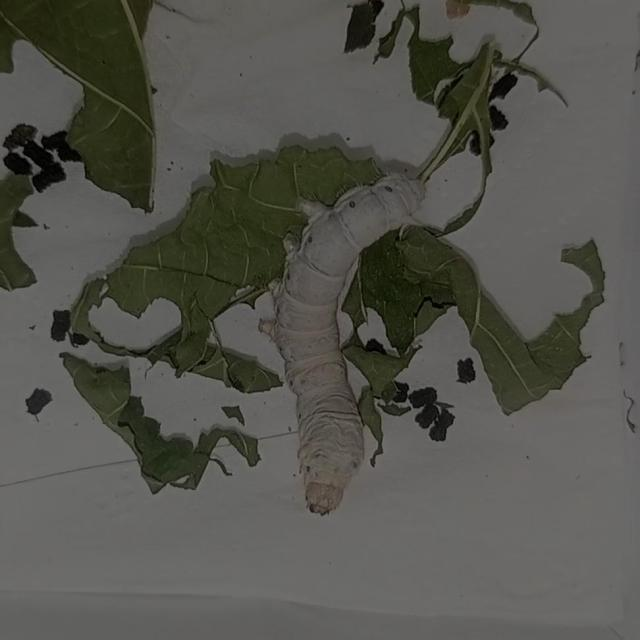Healthy: (248, 146, 460, 552)
